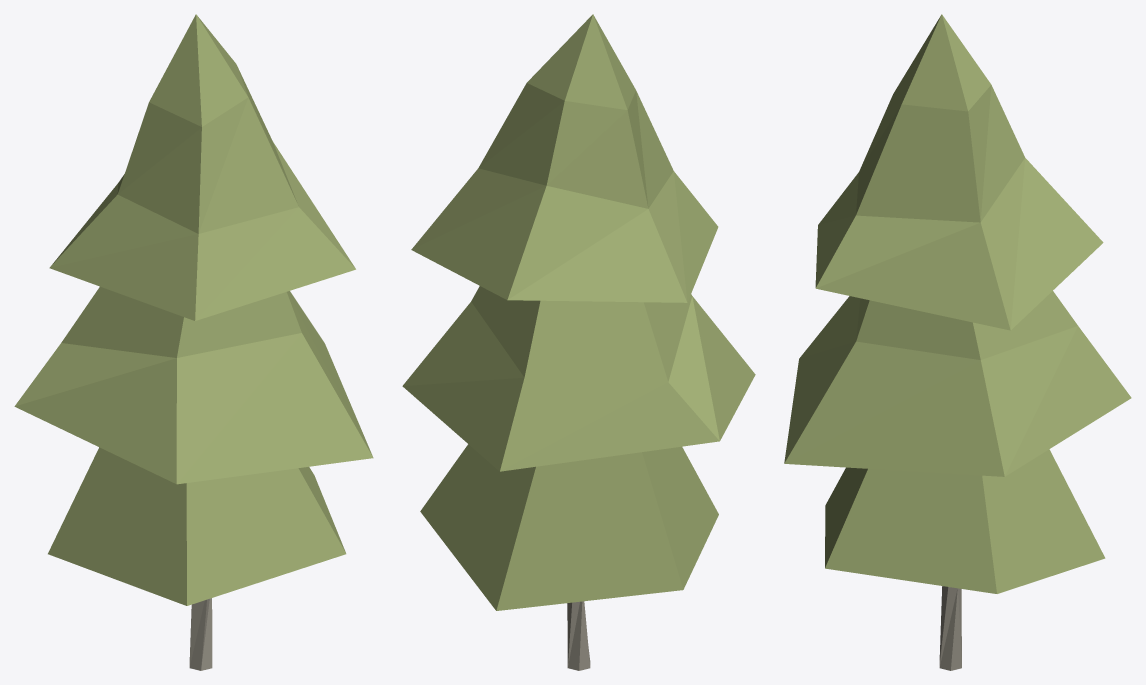
The model's file is LarixDecidua.glb.
The picture shows the model from 3 angles, left to right: view 1: azimuth 30°, elevation 25°; view 2: azimuth 150°, elevation 25°; view 3: azimuth 270°, elevation 25°; orthographic projection.
Visible parts, largest first — view 1: Crown, Trunk; view 2: Crown, Trunk; view 3: Crown, Trunk.
Part boxes in pixels (bbox=[...]): Crown: bbox=[14, 14, 373, 605]; Trunk: bbox=[189, 598, 212, 670]; Crown: bbox=[402, 14, 755, 610]; Trunk: bbox=[567, 601, 590, 670]; Crown: bbox=[784, 14, 1131, 593]; Trunk: bbox=[939, 586, 961, 670].
Size of the model in its own units: 9.12 by 18.14 by 8.84.
